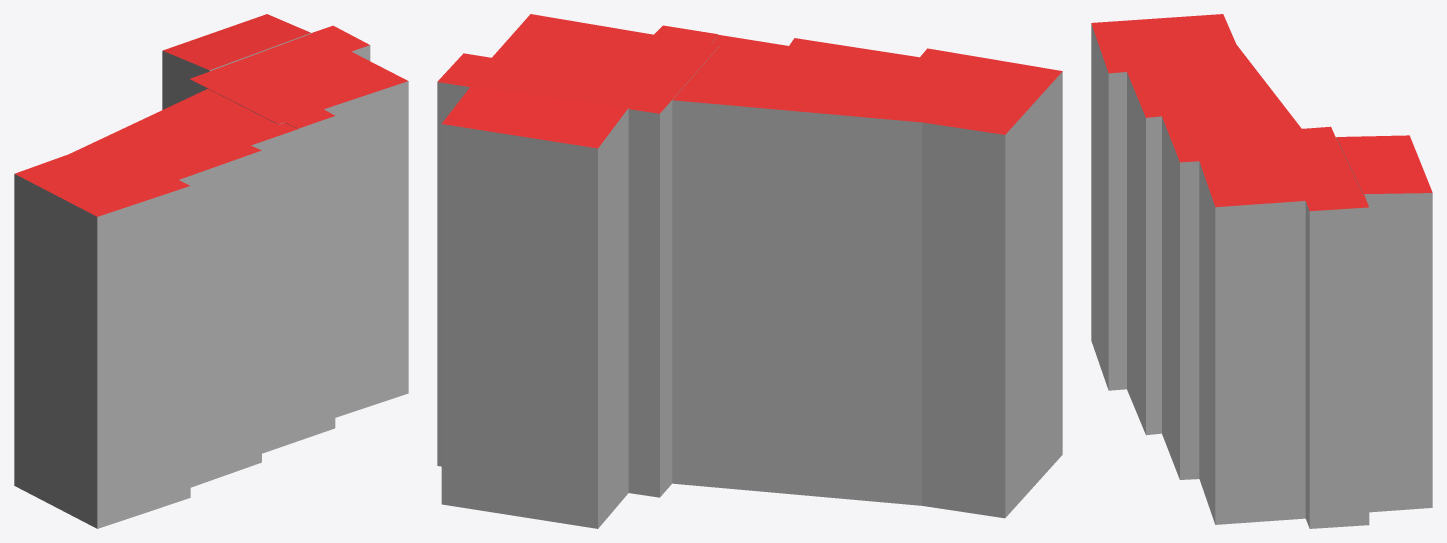
File: DEBE3D04YY50000Ono.dae
3 renders of one model, left to right at view 1: azimuth 30°, elevation 25°; view 2: azimuth 150°, elevation 25°; view 3: azimuth 270°, elevation 25°, orthographic. The views are drawn at different scales.
Size of the model in its own units: 27.43 by 20.04 by 20.64.
